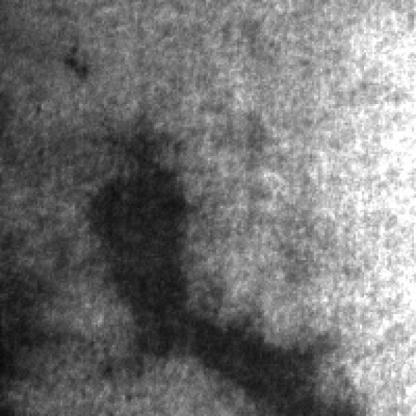patches: (119, 256, 335, 414), (85, 121, 206, 382)
